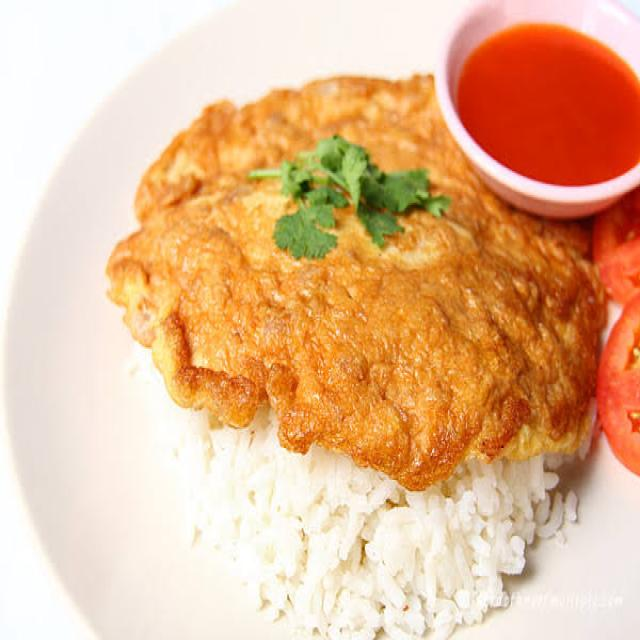carb: (125, 368, 581, 625)
meat: (140, 80, 584, 482)
omelette rice: (82, 76, 541, 622)
